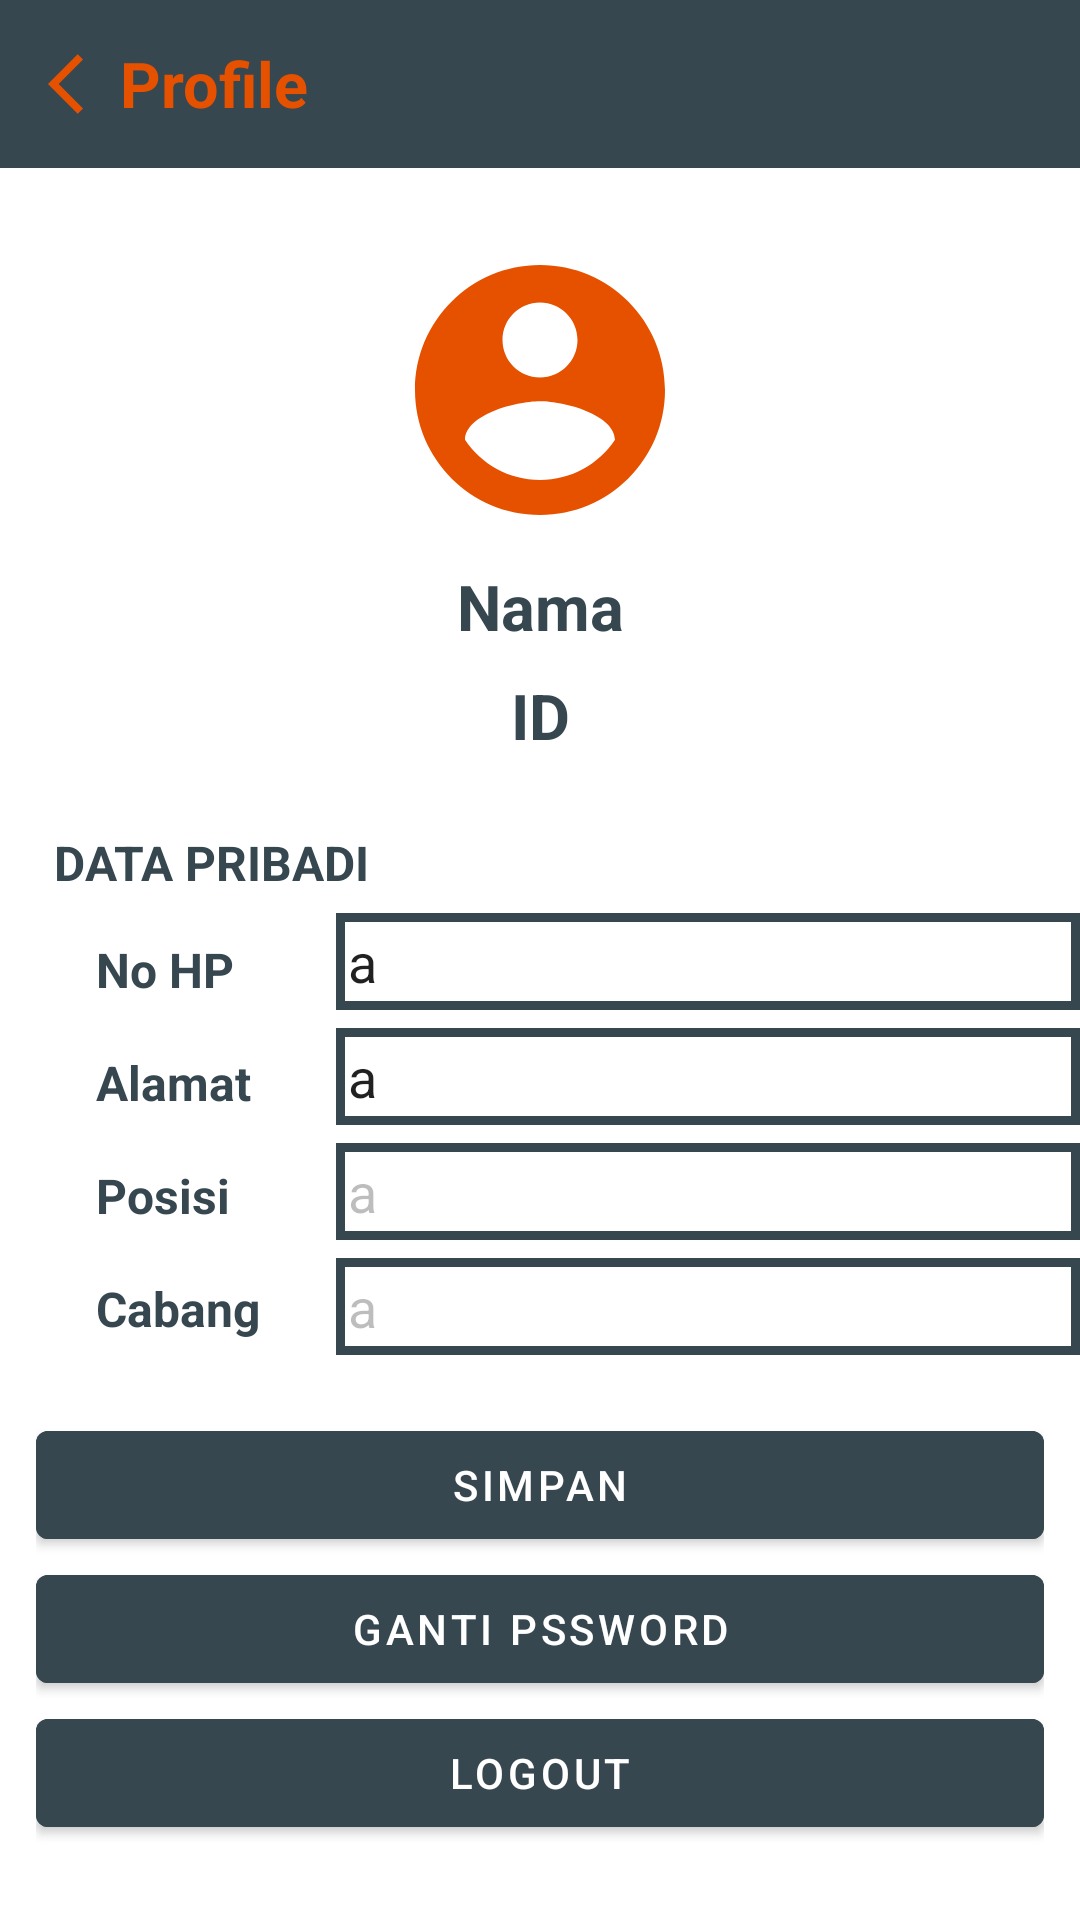

Point at icon controls on the screen. Image size 1080×1920, points as (x,y).
account circle: (540,390)
arrow back: (65,84)
